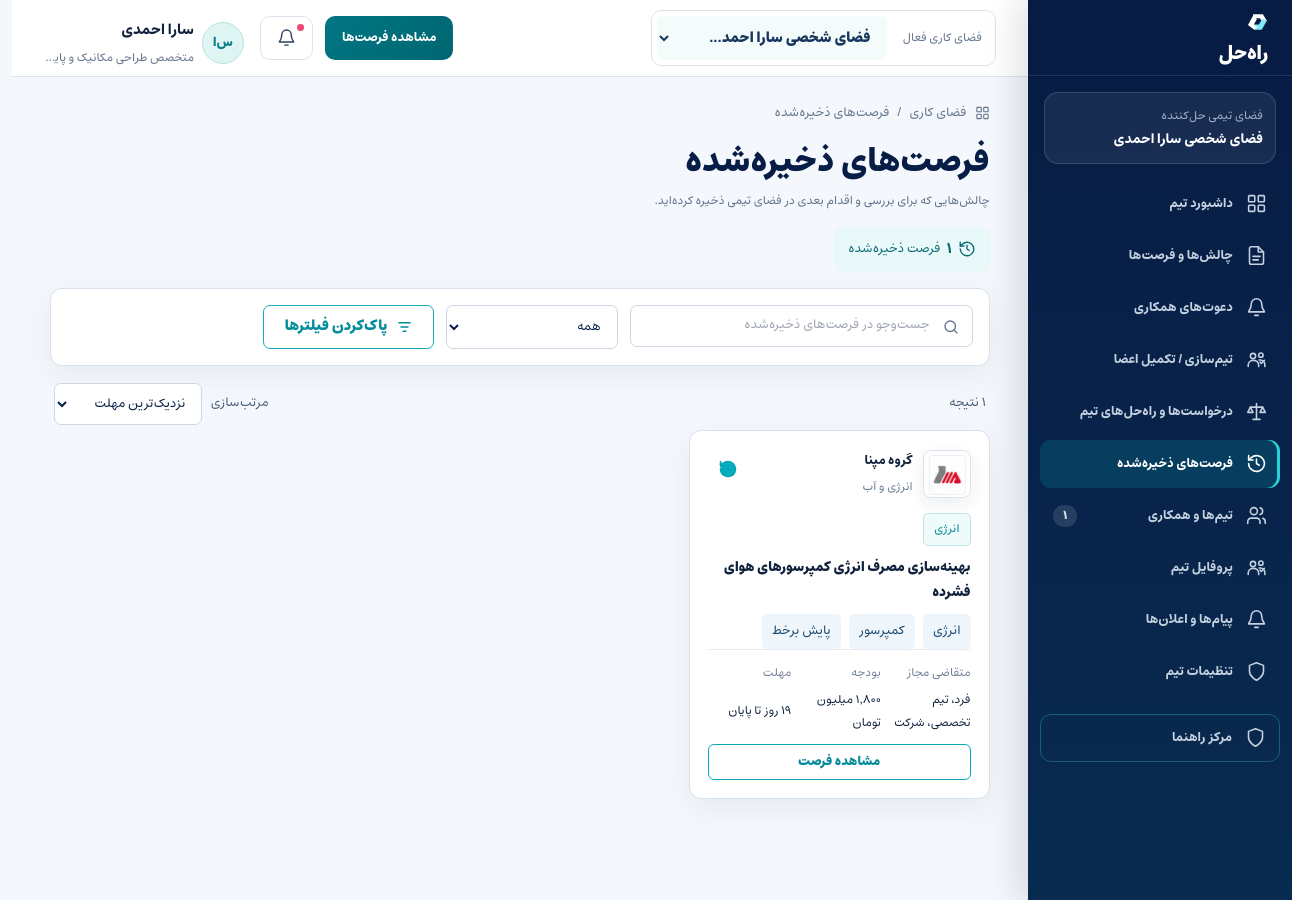
فضای حرفه‌ای حل‌کننده › فرصت‌های ذخیره‌شده را در فضای تیمی با قابلیت حذف می‌سازد
This screenshot has width=1292, height=900.
Expected: the text "چالش‌هایی که برای بررسی و اقدام بعدی در فضای تیمی ذخیره کرده‌اید." is shown, [654,190,990,213]
What coordinates should you click on to do the following:
click the button named "حذف بهینه‌سازی مصرف انرژی کمپرسورهای هوای فشرده از ذخیره‌شده"
I would click on:
 (728, 469)
Its box is [706,447,750,491].
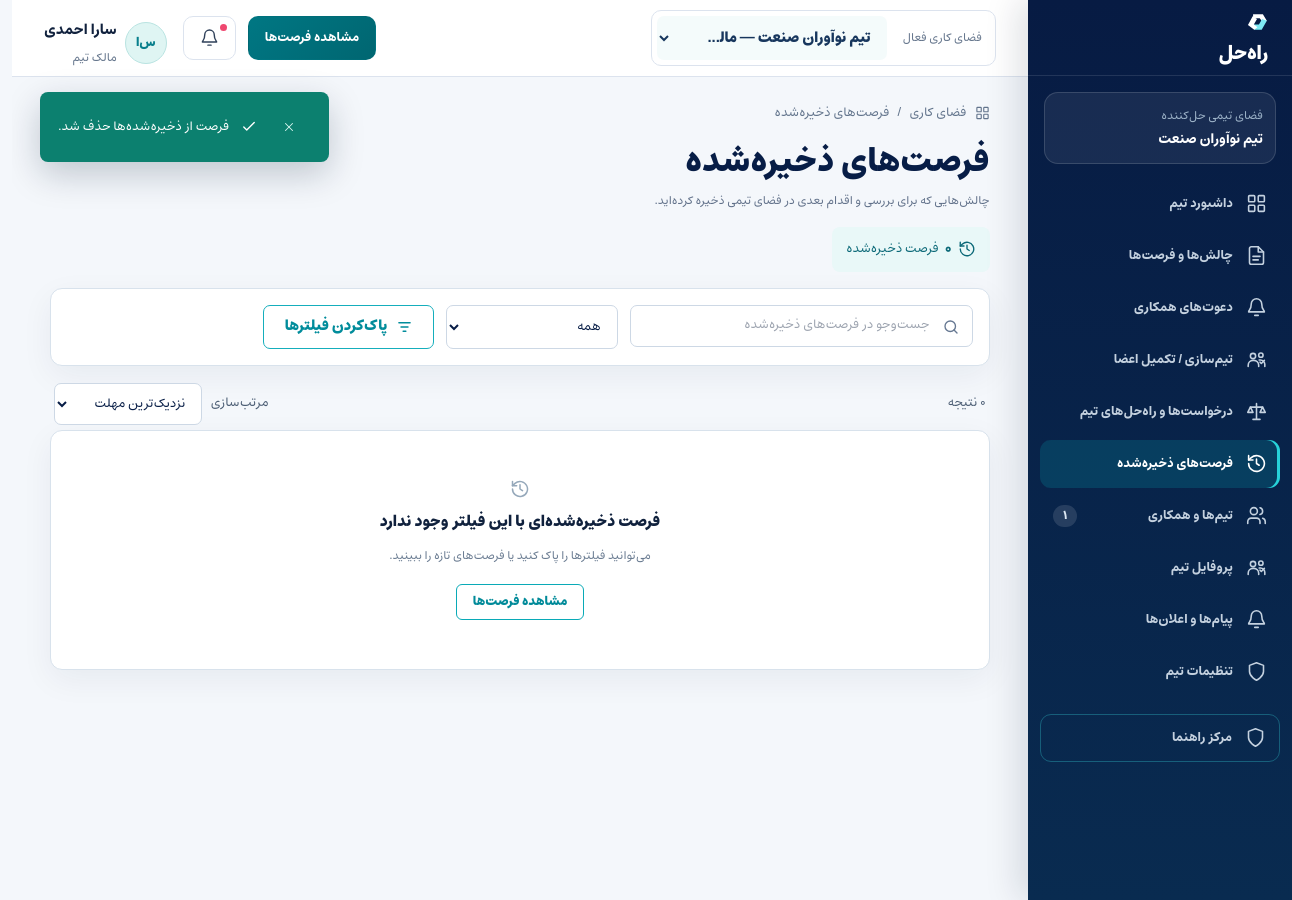
Expected: the heading "فرصت ذخیره‌شده‌ای با این فیلتر وجود ندارد" is shown, [380,507,660,537]
